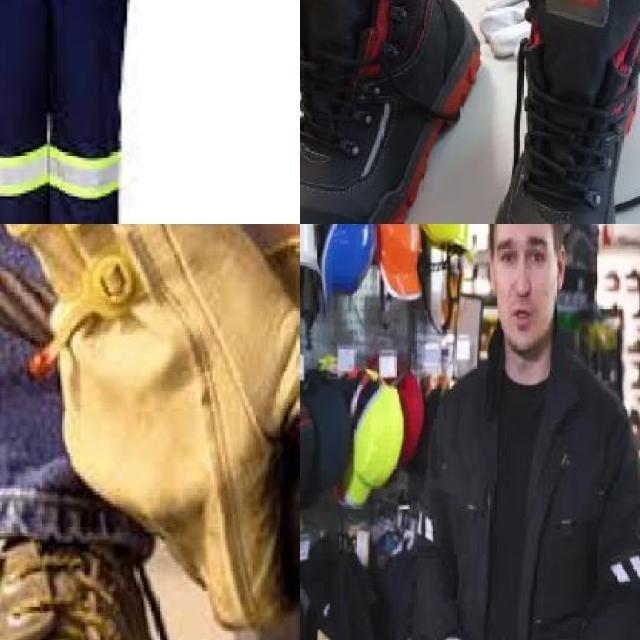apron: (0, 224, 300, 636)
